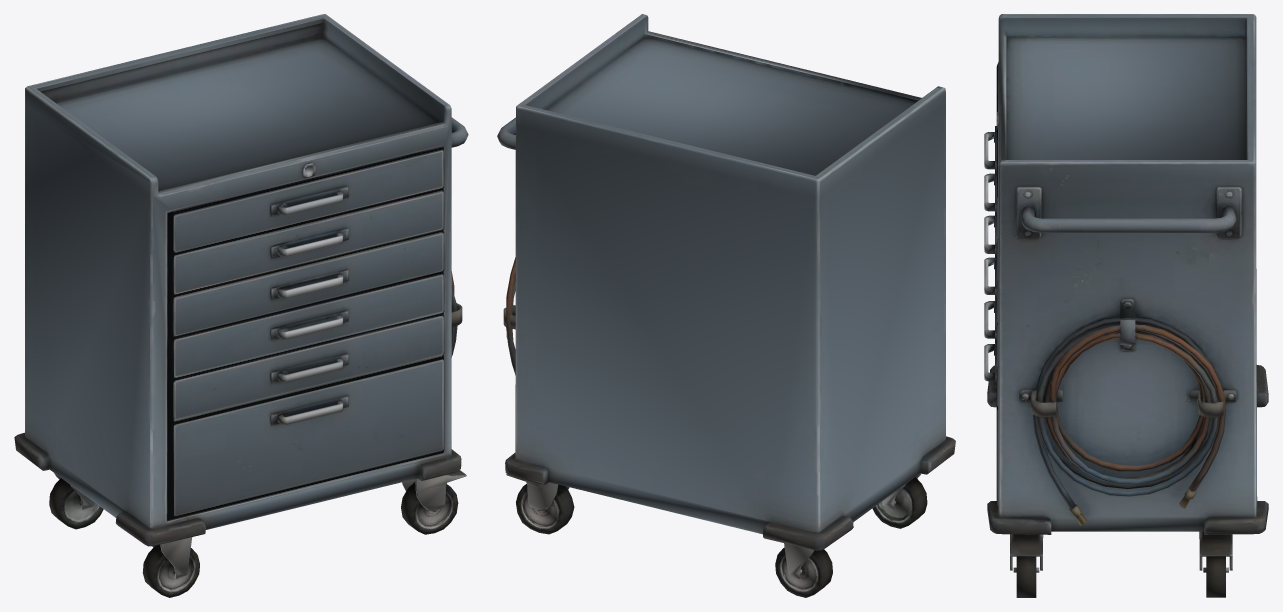
File: carrinho_ferramentas.glb
The picture shows the model from 3 angles, left to right: view 1: azimuth 30°, elevation 25°; view 2: azimuth 150°, elevation 25°; view 3: azimuth 270°, elevation 25°; orthographic projection.
Visible parts, largest first — view 1: Carrinho de ferramentas; view 2: Carrinho de ferramentas; view 3: Carrinho de ferramentas.
Part boxes in pixels (x1=…): Carrinho de ferramentas: x1=14, y1=14, x2=468, y2=597; Carrinho de ferramentas: x1=497, y1=14, x2=955, y2=597; Carrinho de ferramentas: x1=984, y1=14, x2=1268, y2=597.
Bounding box in the file's own units: 0.8379 × 0.998 × 0.5879.
Materials: 1 (1 with a texture image).
